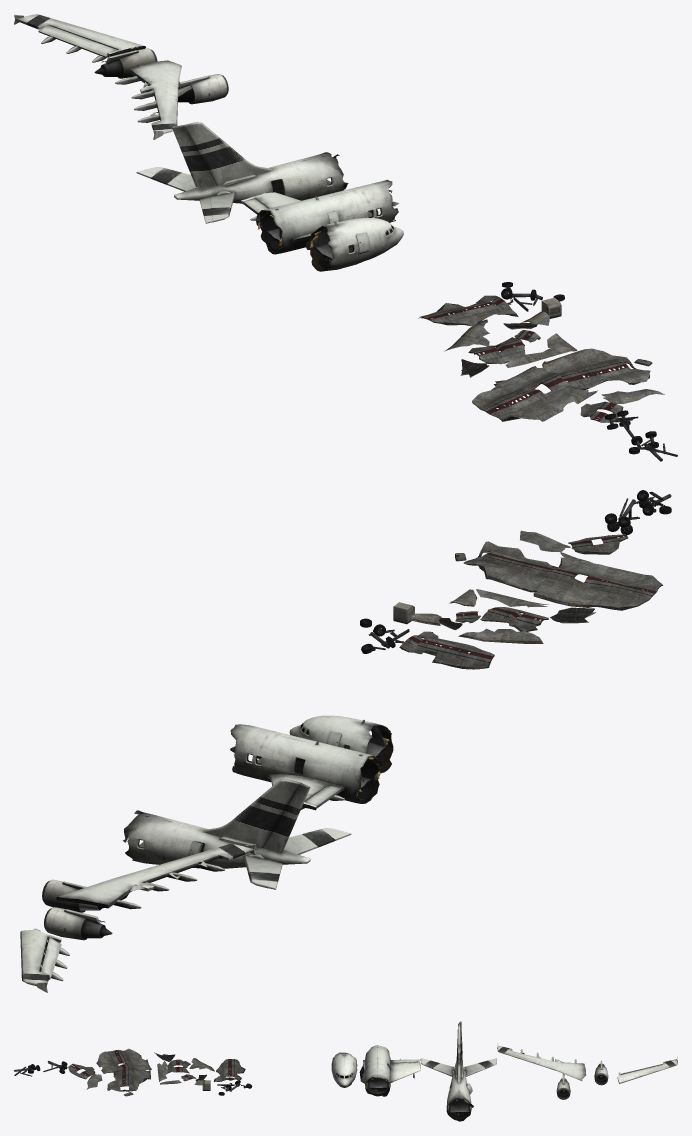
File: planes_gibs_stuff_1.glb
3 views of the same model, one above another, from view 1: azimuth 30°, elevation 25°; view 2: azimuth 150°, elevation 25°; view 3: azimuth 270°, elevation 25° (orthographic). The views are drawn at different scales.
Visible parts, largest first — view 1: planepart03.smd_10, airplaneparts03.smd_2, planepart02.smd_9, planepart04.smd_11, planepart01.smd_8, airplaneparts02.smd_1, planepart06.smd_13, airplaneparts01.smd_0, planepart05.smd_12; view 2: planepart03.smd_10, planepart02.smd_9, airplaneparts03.smd_2, planepart04.smd_11, airplaneparts02.smd_1, planepart01.smd_8, planepart06.smd_13, airplaneparts01.smd_0, planepart05.smd_12, airplaneparts04.smd_3; view 3: planepart03.smd_10, airplaneparts03.smd_2, planepart02.smd_9, planepart04.smd_11, airplaneparts02.smd_1, planepart01.smd_8, planepart06.smd_13, airplaneparts01.smd_0, airplaneparts04.smd_3, planepart05.smd_12, airplaneparts_wheels03.smd_6.
Boxes of the visible parts, left/top/right/bottom form: planepart03.smd_10: left=136, top=122, right=348, bottom=223; airplaneparts03.smd_2: left=472, top=348, right=664, bottom=421; planepart02.smd_9: left=240, top=179, right=399, bottom=254; planepart04.smd_11: left=115, top=60, right=228, bottom=139; planepart01.smd_8: left=305, top=217, right=403, bottom=271; airplaneparts02.smd_1: left=444, top=311, right=577, bottom=377; planepart06.smd_13: left=14, top=14, right=145, bottom=62; airplaneparts01.smd_0: left=418, top=295, right=518, bottom=326; planepart05.smd_12: left=94, top=48, right=157, bottom=78; planepart03.smd_10: left=123, top=779, right=351, bottom=889; planepart02.smd_9: left=230, top=724, right=380, bottom=810; airplaneparts03.smd_2: left=455, top=530, right=662, bottom=610; planepart04.smd_11: left=42, top=844, right=255, bottom=912; airplaneparts02.smd_1: left=410, top=589, right=596, bottom=643; planepart01.smd_8: left=289, top=715, right=393, bottom=773; planepart06.smd_13: left=20, top=928, right=69, bottom=992; airplaneparts01.smd_0: left=399, top=631, right=494, bottom=669; planepart05.smd_12: left=44, top=907, right=112, bottom=940; airplaneparts04.smd_3: left=568, top=534, right=628, bottom=554; planepart03.smd_10: left=421, top=1021, right=496, bottom=1121; airplaneparts03.smd_2: left=86, top=1048, right=151, bottom=1096; planepart02.smd_9: left=359, top=1045, right=420, bottom=1096; planepart04.smd_11: left=497, top=1043, right=586, bottom=1099; airplaneparts02.smd_1: left=154, top=1052, right=214, bottom=1085; planepart01.smd_8: left=331, top=1052, right=357, bottom=1087; planepart06.smd_13: left=617, top=1056, right=677, bottom=1083; airplaneparts01.smd_0: left=213, top=1059, right=245, bottom=1081; airplaneparts04.smd_3: left=68, top=1063, right=95, bottom=1079; planepart05.smd_12: left=594, top=1061, right=608, bottom=1085; airplaneparts_wheels03.smd_6: left=217, top=1080, right=252, bottom=1095.
Bounding box in the file's own units: 24.3 × 14.03 × 145.
4 materials, 4 textured.
